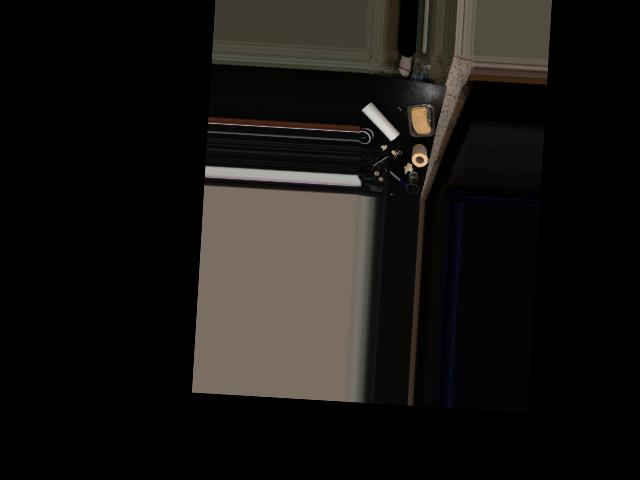cheese: (404, 99, 438, 139)
